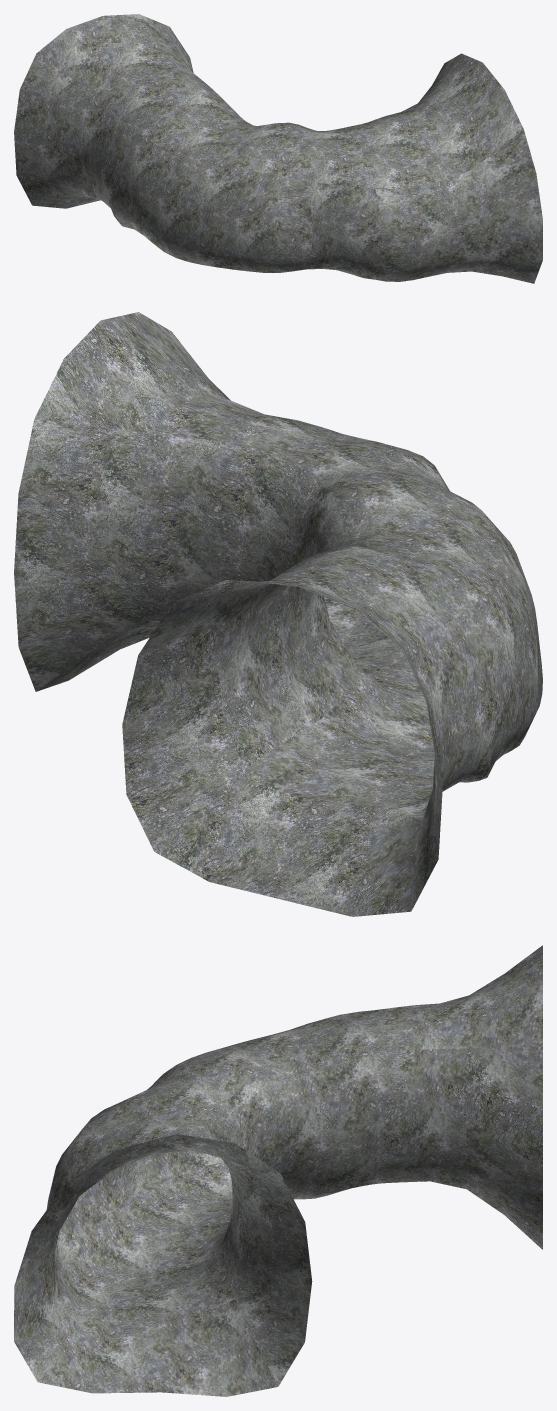
3 renders of one model, top to bottom at view 1: azimuth 30°, elevation 25°; view 2: azimuth 150°, elevation 25°; view 3: azimuth 270°, elevation 25°, orthographic. The views are drawn at different scales.
Visible parts, largest first — view 1: Untitled_L_CurveONE300; view 2: Untitled_L_CurveONE300; view 3: Untitled_L_CurveONE300.
Part boxes in pixels (<box>): Untitled_L_CurveONE300: <box>14,14,542,283</box>; Untitled_L_CurveONE300: <box>14,312,542,916</box>; Untitled_L_CurveONE300: <box>14,945,542,1396</box>.
Size of what is drawn, in the model's own units: 55.58 by 32.13 by 56.56.
Materials: 1 (1 with a texture image).
